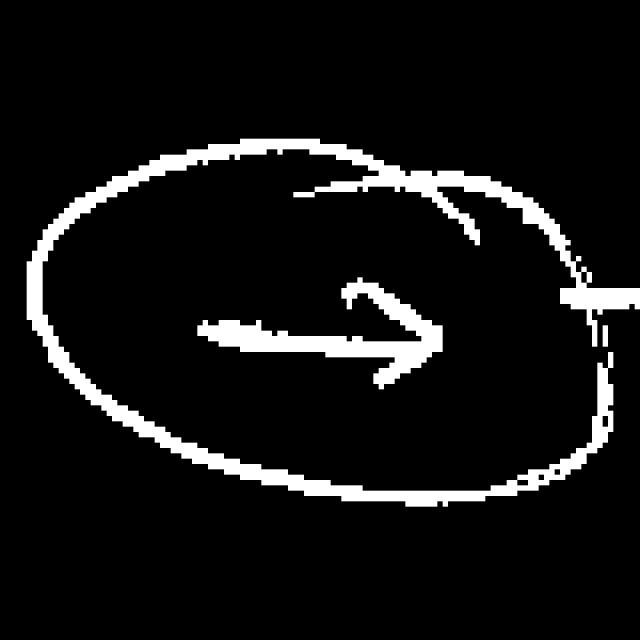current_source: (18, 126, 624, 524)
